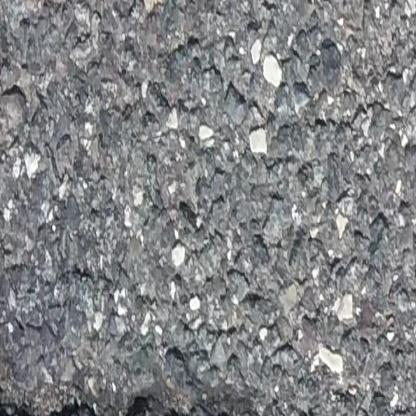Cracks: (0, 369, 293, 416)
